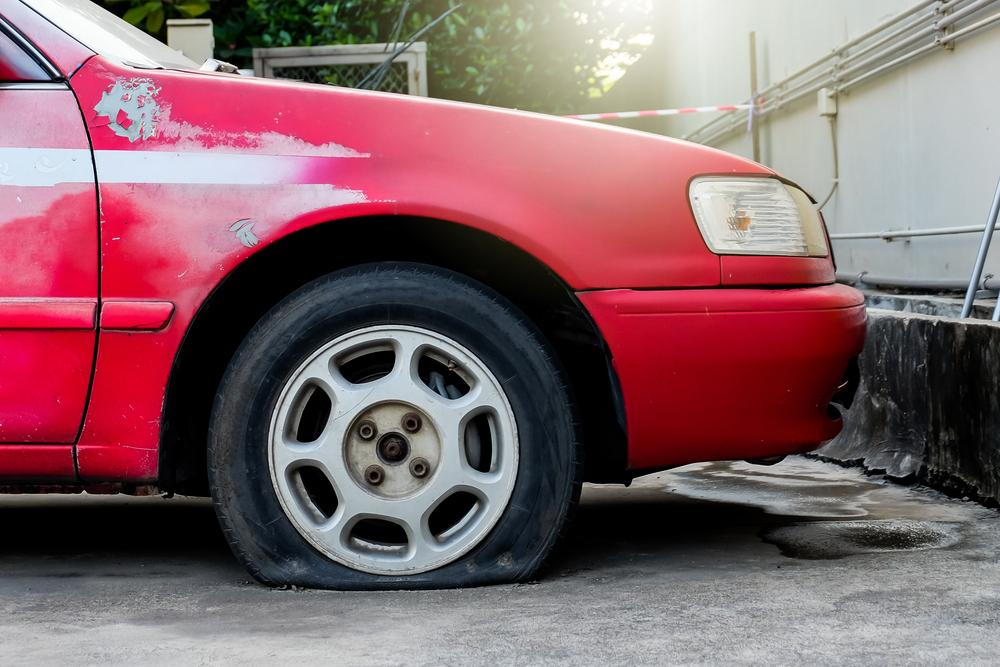tire flat: (209, 260, 585, 588)
